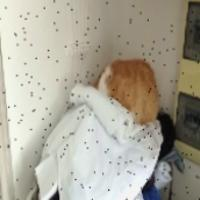asleep: (93, 59, 160, 126)
